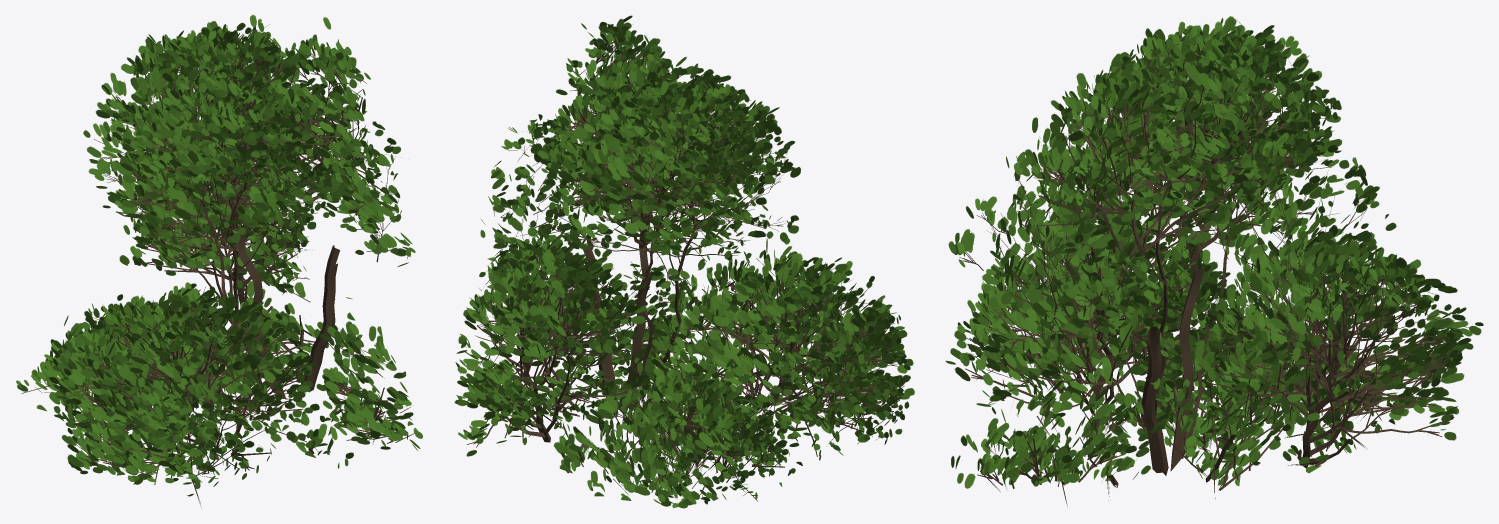
3 renders of one model, left to right at view 1: azimuth 30°, elevation 25°; view 2: azimuth 150°, elevation 25°; view 3: azimuth 270°, elevation 25°, orthographic. The views are drawn at different scales.
Visible parts, largest first — view 1: oak 01.001_trunk_Mat.001_0.471; view 2: oak 01.001_trunk_Mat.001_0.471; view 3: oak 01.001_trunk_Mat.001_0.471.
Boxes of the visible parts, x1,y1,x2,y2 form: oak 01.001_trunk_Mat.001_0.471: [16, 14, 422, 507]; oak 01.001_trunk_Mat.001_0.471: [454, 15, 914, 508]; oak 01.001_trunk_Mat.001_0.471: [945, 16, 1483, 505].
Size of the model in its own units: 3.47 by 4.07 by 4.54.
Materials: 2 (1 with a texture image).
